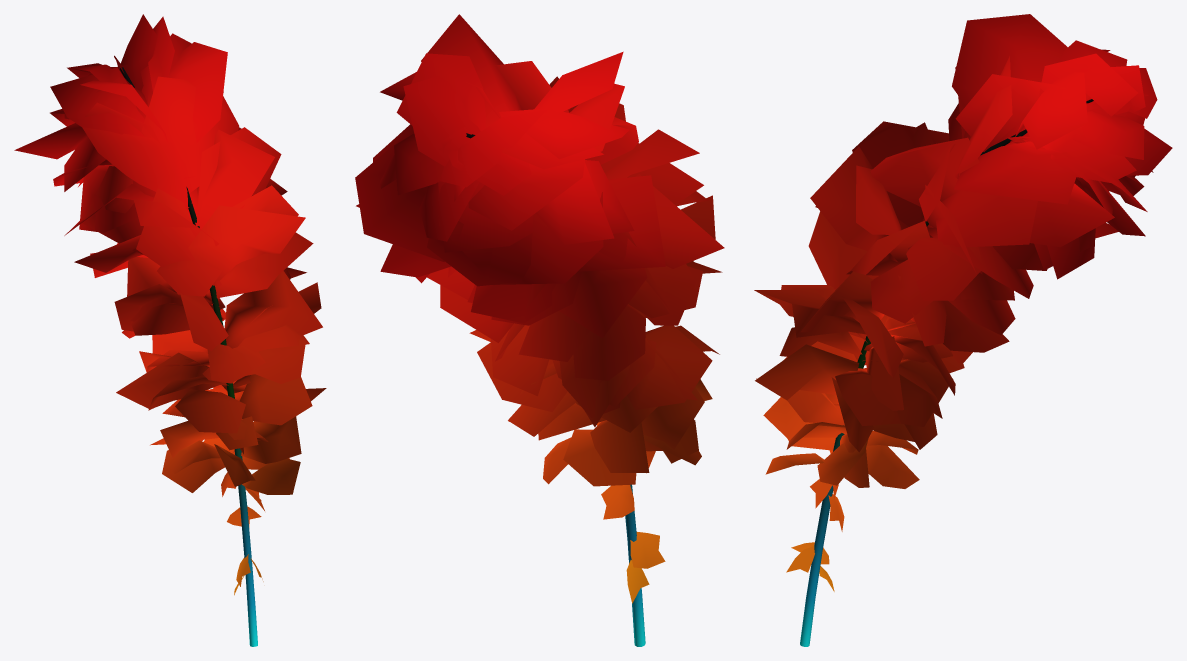
The model's file is Bamboo3.fbx.
The picture shows the model from 3 angles, left to right: view 1: azimuth 30°, elevation 25°; view 2: azimuth 150°, elevation 25°; view 3: azimuth 270°, elevation 25°; orthographic projection. The views are drawn at different scales.
Parts seen in each view (by area): view 1: Bamboo3_LOD0; view 2: Bamboo3_LOD0; view 3: Bamboo3_LOD0.
Boxes of the visible parts, x1,y1,x2,y2 form: Bamboo3_LOD0: (14,14,326,646); Bamboo3_LOD0: (355,14,724,646); Bamboo3_LOD0: (754,14,1172,646).
Size of what is drawn, in the model's own units: 323 by 709 by 441.
